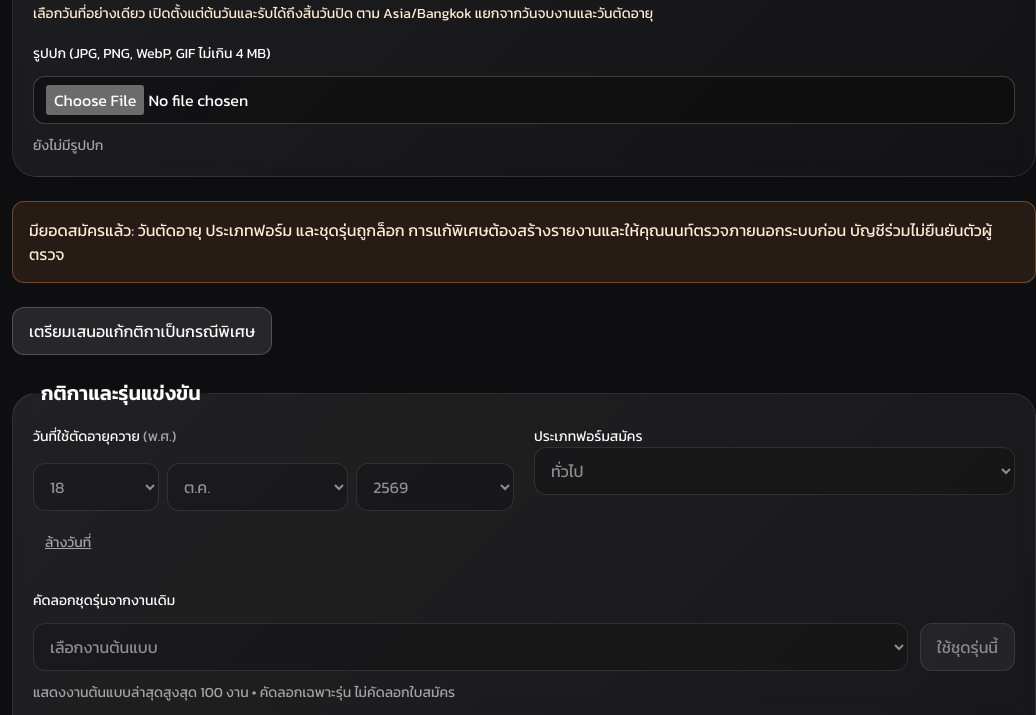
Test: locks rules after applications while leaving signup deadline editable
(page scrolled)
Expected: the dropdown named "วันที่ใช้ตัดอายุควาย—วัน" is disabled, [33, 463, 159, 511]
Expected: the dropdown named "วันที่ใช้ตัดอายุควาย—เดือน" is disabled, [167, 463, 348, 511]
Click the button "เตรียมเสนอแก้กติกาเป็นกรณีพิเศษ". click: x=142, y=331
box: [12, 307, 272, 355]
(page scrolled)
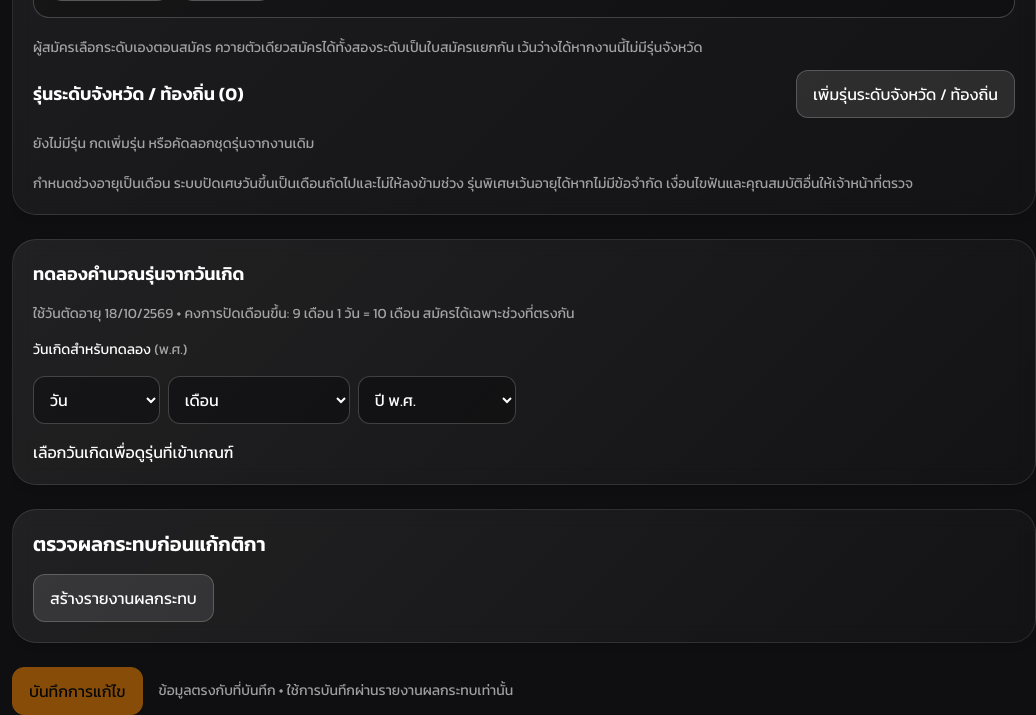
Now the button "บันทึกการแก้ไข" is disabled, box [12, 667, 143, 714]
Now the button "สร้างรายงานผลกระทบ" is shown, box [33, 574, 214, 622]
